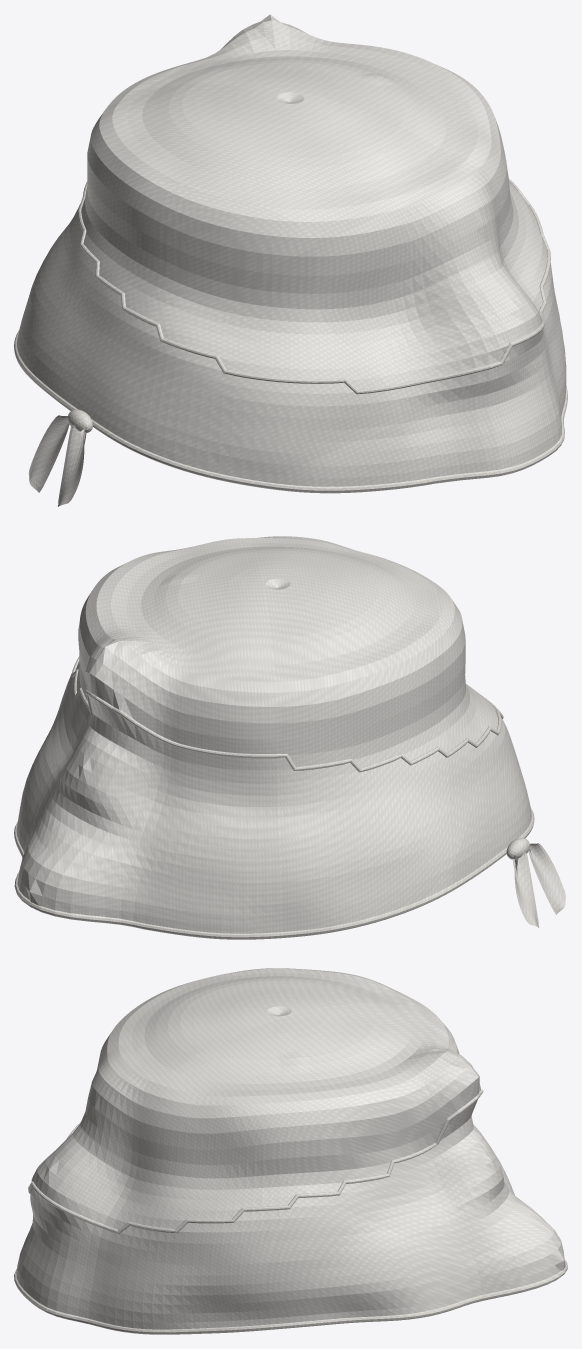
File: side_umebaa_headcloth.glb
3 views of the same model, one above another, from view 1: azimuth 30°, elevation 25°; view 2: azimuth 150°, elevation 25°; view 3: azimuth 270°, elevation 25° (orthographic). The views are drawn at different scales.
Visible parts, largest first — view 1: wash_dyed_linen, sewn_fold; view 2: wash_dyed_linen, sewn_fold; view 3: wash_dyed_linen, sewn_fold.
Boxes of the visible parts, bbox=[...] form: wash_dyed_linen: bbox=[17, 14, 566, 506]; sewn_fold: bbox=[14, 178, 567, 493]; wash_dyed_linen: bbox=[16, 536, 565, 933]; sewn_fold: bbox=[14, 656, 534, 939]; wash_dyed_linen: bbox=[16, 968, 565, 1329]; sewn_fold: bbox=[14, 1089, 567, 1334].
Bounding box in the file's own units: 16.04 × 9.8 × 17.87.
Materials: 3 (3 with a texture image).
